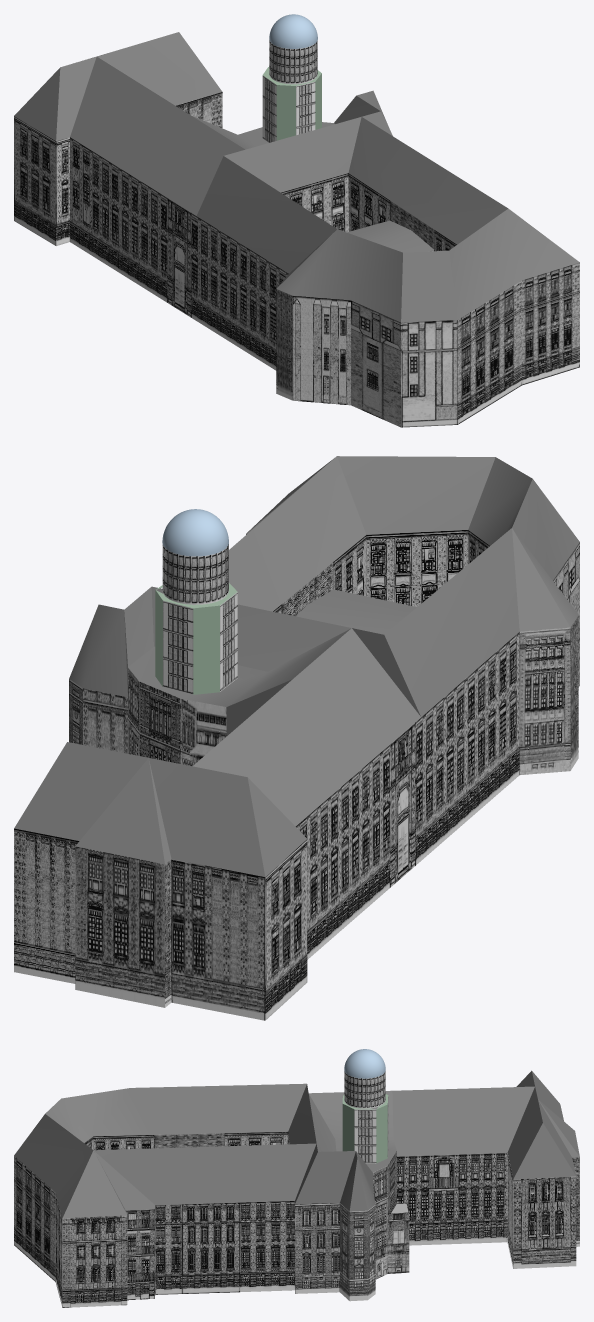
Rendered from Beyer-Bau.gltf.
3 views of the same model, one above another, from view 1: azimuth 30°, elevation 25°; view 2: azimuth 150°, elevation 25°; view 3: azimuth 270°, elevation 25° (orthographic). The views are drawn at different scales.
Parts seen in each view (by area): view 1: Dach.1; view 2: Dach.1; view 3: Dach.1.
Part boxes in pixels (left/top/right/bottom): Dach.1: left=14, top=14, right=579, bottom=427; Dach.1: left=14, top=456, right=579, bottom=1020; Dach.1: left=14, top=1049, right=579, bottom=1307.
Size of the model in its own units: 53.42 by 46.06 by 112.
Materials: 34 (30 with a texture image).
